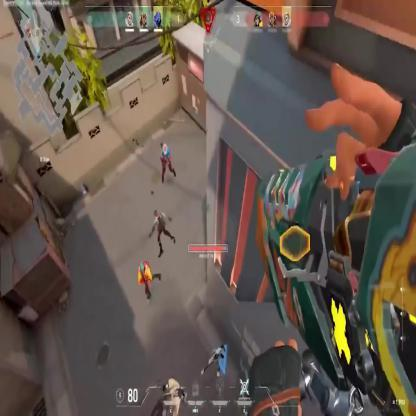enemy: (137, 260, 162, 304), (158, 142, 176, 185)
enemy_head: (140, 262, 144, 272), (163, 143, 167, 152)
